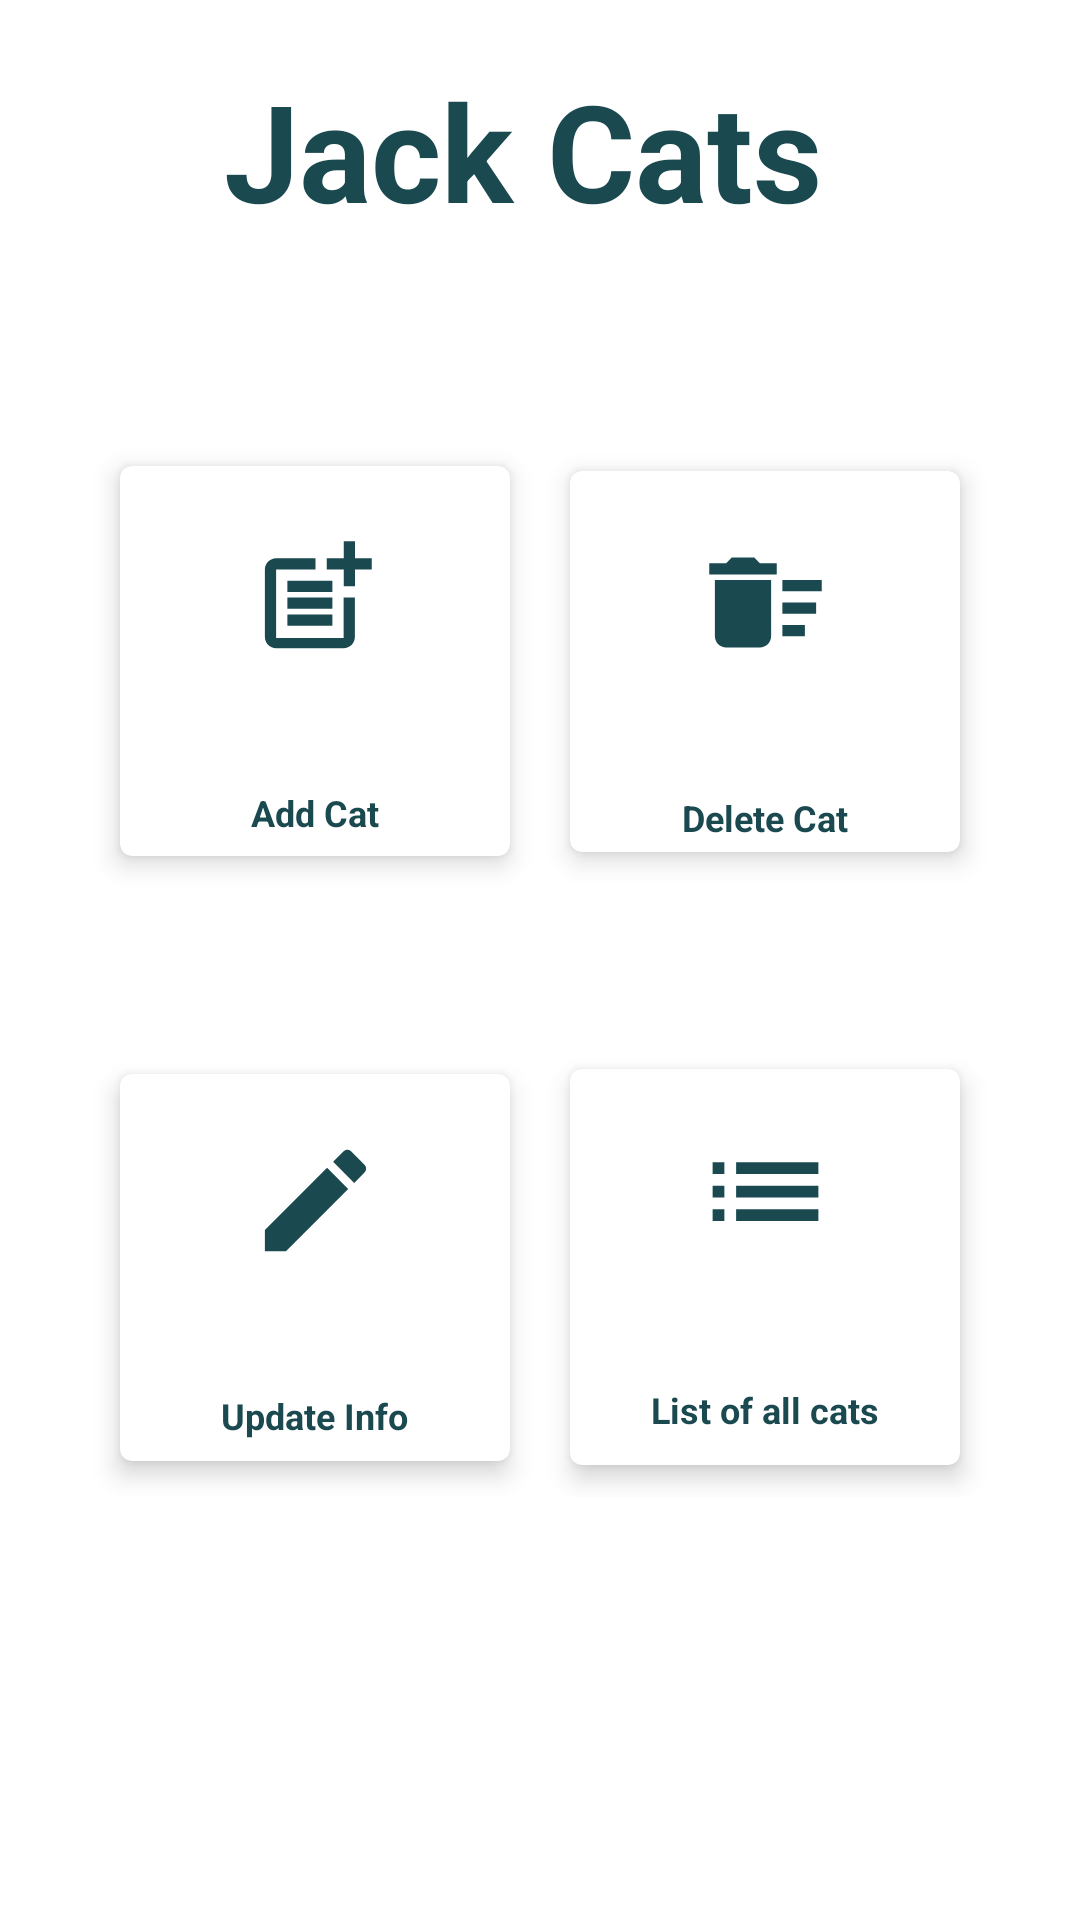

Named icons in this screenshot (1080 × 1920) and their centers, (x,y):
delete sweep: (765,602)
edit: (315,1200)
post add: (318,595)
